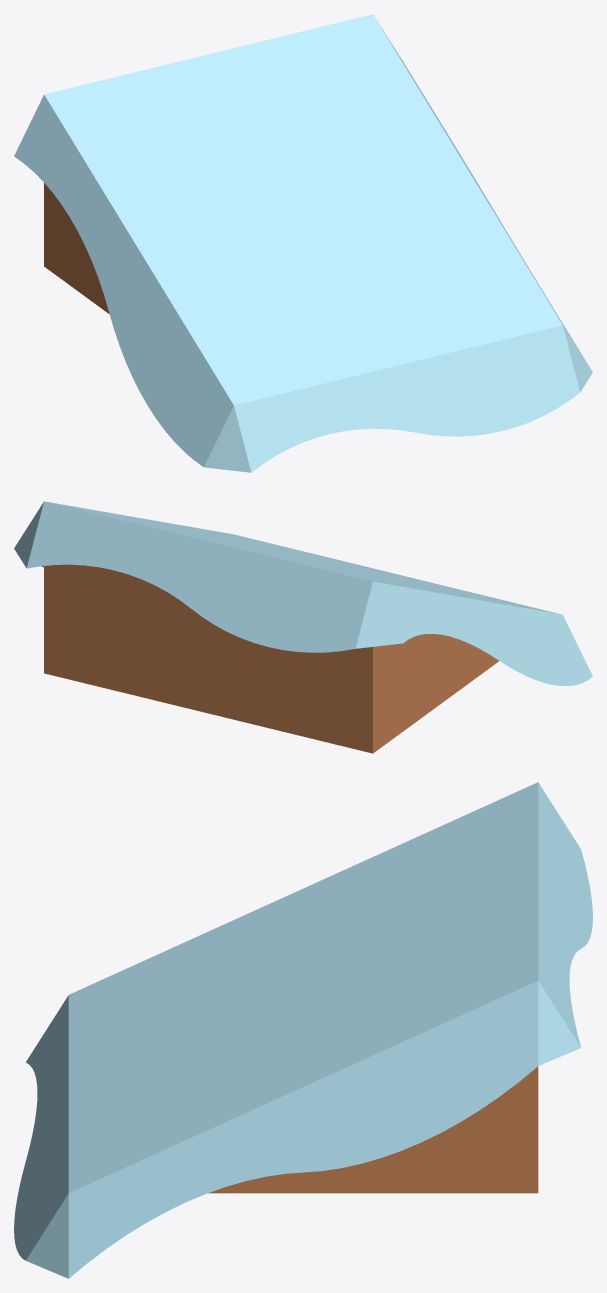
File: blockSnowSlopeHalf.obj
3 renders of one model, top to bottom at view 1: azimuth 30°, elevation 25°; view 2: azimuth 150°, elevation 25°; view 3: azimuth 270°, elevation 25°, orthographic. The views are drawn at different scales.
Visible parts, largest first — view 1: blockSnowSlopeHalf; view 2: blockSnowSlopeHalf; view 3: blockSnowSlopeHalf.
Boxes of the visible parts, x1,y1,x2,y2 form: blockSnowSlopeHalf: [14, 14, 592, 472]; blockSnowSlopeHalf: [14, 501, 592, 753]; blockSnowSlopeHalf: [14, 782, 592, 1278].
Size of the model in its own units: 1.23 by 0.7018 by 1.23.
